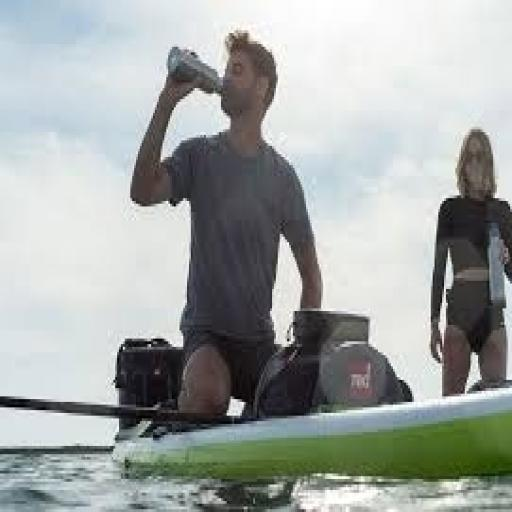drinking: (164, 44, 223, 96)
